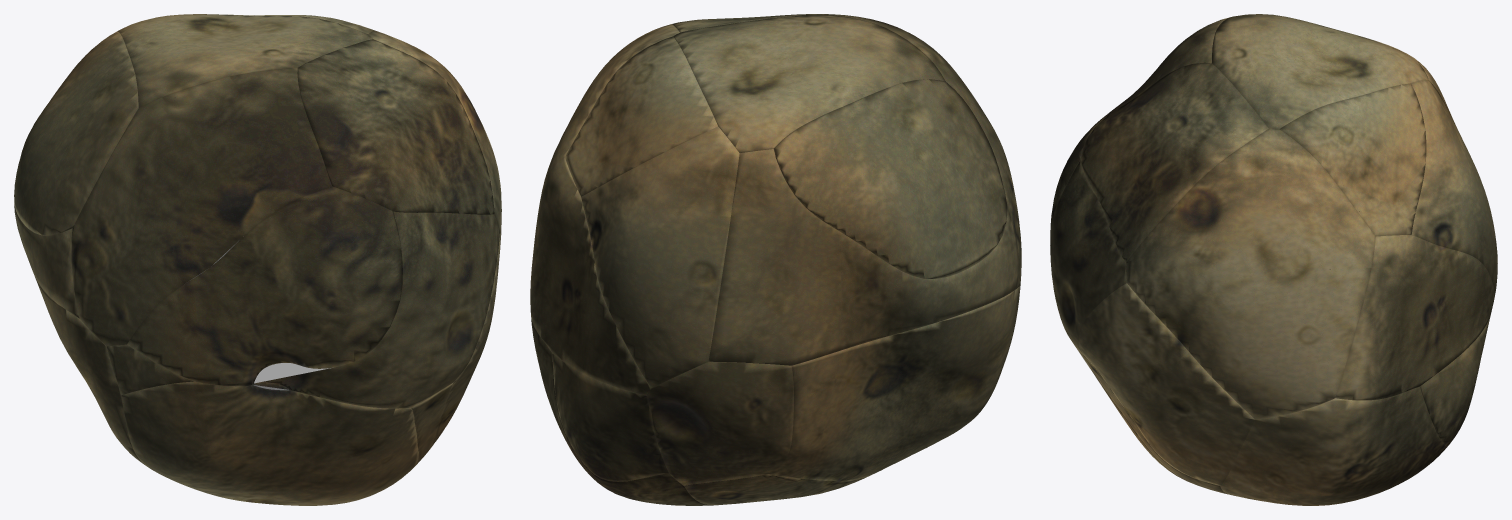
Rendered from fracsteroid2.fbx.
The picture shows the model from 3 angles, left to right: view 1: azimuth 30°, elevation 25°; view 2: azimuth 150°, elevation 25°; view 3: azimuth 270°, elevation 25°; orthographic projection. The views are drawn at different scales.
Parts seen in each view (by area): view 1: 10464_Asteroid_v1_Iterations-2_shard.009, 10464_Asteroid_v1_Iterations-2_shard.008, 10464_Asteroid_v1_Iterations-2_shard.011, 10464_Asteroid_v1_Iterations-2_shard.013, 10464_Asteroid_v1_Iterations-2_shard.001, 10464_Asteroid_v1_Iterations-2_shard.018, 10464_Asteroid_v1_Iterations-2_shard.017, 10464_Asteroid_v1_Iterations-2_shard.006, 10464_Asteroid_v1_Iterations-2_shard, 10464_Asteroid_v1_Iterations-2_shard.015, 10464_Asteroid_v1_Iterations-2_shard.007, 10464_Asteroid_v1_Iterations-2_shard.010; view 2: 10464_Asteroid_v1_Iterations-2_shard.015, 10464_Asteroid_v1_Iterations-2_shard.018, 10464_Asteroid_v1_Iterations-2_shard.004, 10464_Asteroid_v1_Iterations-2_shard.006, 10464_Asteroid_v1_Iterations-2_shard.017, 10464_Asteroid_v1_Iterations-2_shard.014, 10464_Asteroid_v1_Iterations-2_shard.012, 10464_Asteroid_v1_Iterations-2_shard.002, 10464_Asteroid_v1_Iterations-2_shard.003, 10464_Asteroid_v1_Iterations-2_shard.016, 10464_Asteroid_v1_Iterations-2_shard.005, 10464_Asteroid_v1_Iterations-2_shard.009 (+2 smaller); view 3: 10464_Asteroid_v1_Iterations-2_shard.007, 10464_Asteroid_v1_Iterations-2_shard.013, 10464_Asteroid_v1_Iterations-2_shard.005, 10464_Asteroid_v1_Iterations-2_shard.012, 10464_Asteroid_v1_Iterations-2_shard.010, 10464_Asteroid_v1_Iterations-2_shard.017, 10464_Asteroid_v1_Iterations-2_shard.002, 10464_Asteroid_v1_Iterations-2_shard.004, 10464_Asteroid_v1_Iterations-2_shard.001, 10464_Asteroid_v1_Iterations-2_shard.003, 10464_Asteroid_v1_Iterations-2_shard.009, 10464_Asteroid_v1_Iterations-2_shard (+1 smaller).
Part boxes in pixels (x1,y1,x2,y2): 10464_Asteroid_v1_Iterations-2_shard.009: (71, 67, 331, 346); 10464_Asteroid_v1_Iterations-2_shard.008: (127, 186, 402, 386); 10464_Asteroid_v1_Iterations-2_shard.011: (121, 381, 418, 505); 10464_Asteroid_v1_Iterations-2_shard.013: (297, 39, 494, 214); 10464_Asteroid_v1_Iterations-2_shard.001: (254, 211, 499, 408); 10464_Asteroid_v1_Iterations-2_shard.018: (14, 31, 138, 235); 10464_Asteroid_v1_Iterations-2_shard.017: (117, 14, 372, 107); 10464_Asteroid_v1_Iterations-2_shard.006: (35, 277, 144, 464); 10464_Asteroid_v1_Iterations-2_shard: (106, 344, 452, 467); 10464_Asteroid_v1_Iterations-2_shard.015: (14, 204, 79, 318); 10464_Asteroid_v1_Iterations-2_shard.007: (368, 30, 501, 234); 10464_Asteroid_v1_Iterations-2_shard.010: (429, 233, 500, 449); 10464_Asteroid_v1_Iterations-2_shard.015: (708, 149, 1019, 365); 10464_Asteroid_v1_Iterations-2_shard.018: (774, 79, 1007, 278); 10464_Asteroid_v1_Iterations-2_shard.004: (581, 126, 739, 387); 10464_Asteroid_v1_Iterations-2_shard.006: (768, 286, 1019, 480); 10464_Asteroid_v1_Iterations-2_shard.017: (673, 14, 945, 152); 10464_Asteroid_v1_Iterations-2_shard.014: (647, 361, 793, 485); 10464_Asteroid_v1_Iterations-2_shard.012: (530, 157, 651, 395); 10464_Asteroid_v1_Iterations-2_shard.002: (565, 36, 717, 196); 10464_Asteroid_v1_Iterations-2_shard.003: (552, 354, 668, 481); 10464_Asteroid_v1_Iterations-2_shard.016: (684, 474, 868, 505); 10464_Asteroid_v1_Iterations-2_shard.005: (531, 319, 713, 505); 10464_Asteroid_v1_Iterations-2_shard.009: (823, 14, 1021, 289); 10464_Asteroid_v1_Iterations-2_shard.007: (1126, 128, 1375, 419); 10464_Asteroid_v1_Iterations-2_shard.013: (1080, 62, 1268, 262); 10464_Asteroid_v1_Iterations-2_shard.005: (1220, 386, 1447, 505); 10464_Asteroid_v1_Iterations-2_shard.012: (1335, 235, 1494, 400); 10464_Asteroid_v1_Iterations-2_shard.010: (1078, 283, 1254, 485); 10464_Asteroid_v1_Iterations-2_shard.017: (1212, 14, 1428, 128); 10464_Asteroid_v1_Iterations-2_shard.002: (1279, 83, 1426, 236); 10464_Asteroid_v1_Iterations-2_shard.004: (1411, 80, 1497, 296); 10464_Asteroid_v1_Iterations-2_shard.001: (1050, 160, 1126, 359); 10464_Asteroid_v1_Iterations-2_shard.003: (1420, 316, 1490, 446); 10464_Asteroid_v1_Iterations-2_shard.009: (1107, 17, 1228, 115); 10464_Asteroid_v1_Iterations-2_shard: (1077, 349, 1227, 494).
Bounding box in the file's own units: 13653 × 13831 × 13767.
Materials: 2 (1 with a texture image).
